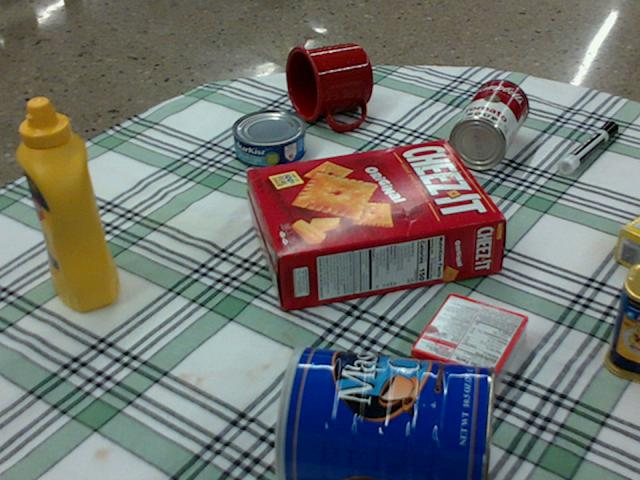cracker_box: (247, 141, 502, 311)
gelatin_box: (410, 292, 528, 395)
large_marker: (557, 121, 617, 172)
master_chef_can: (276, 347, 496, 479)
mug: (284, 44, 373, 128)
mustard_bottle: (16, 97, 118, 311)
potted_meat_can: (604, 259, 639, 380)
sugar_box: (616, 219, 639, 272)
tomato_soup_can: (448, 78, 528, 168)
tuna_fish_can: (231, 109, 305, 167)
